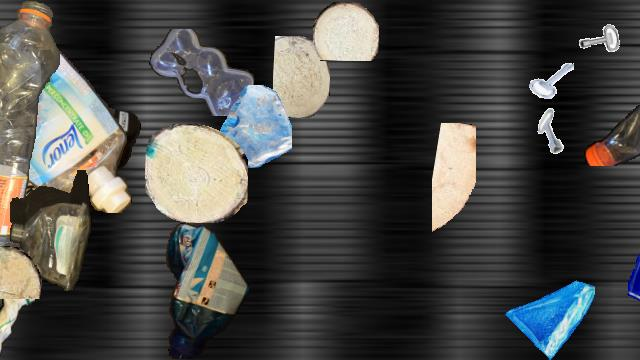glass: (504, 269, 594, 359), (209, 85, 291, 167), (622, 245, 640, 307)
metal: (567, 2, 623, 58), (530, 108, 576, 154), (529, 59, 573, 103)
plastic: (0, 40, 134, 212), (0, 111, 141, 247), (0, 1, 59, 265), (160, 221, 248, 359), (10, 170, 92, 292), (149, 29, 255, 115), (582, 90, 640, 166), (0, 275, 34, 359)
wood: (145, 124, 247, 222), (432, 123, 476, 239), (273, 36, 329, 118), (313, 2, 379, 60), (0, 246, 42, 298)
